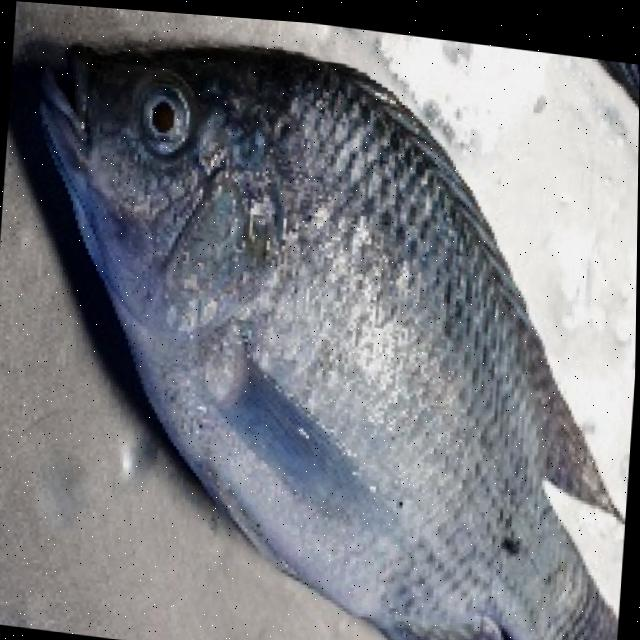Fresh: (2, 24, 573, 581)
